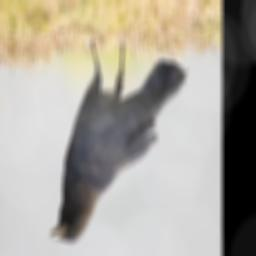Crow: (48, 39, 188, 244)
